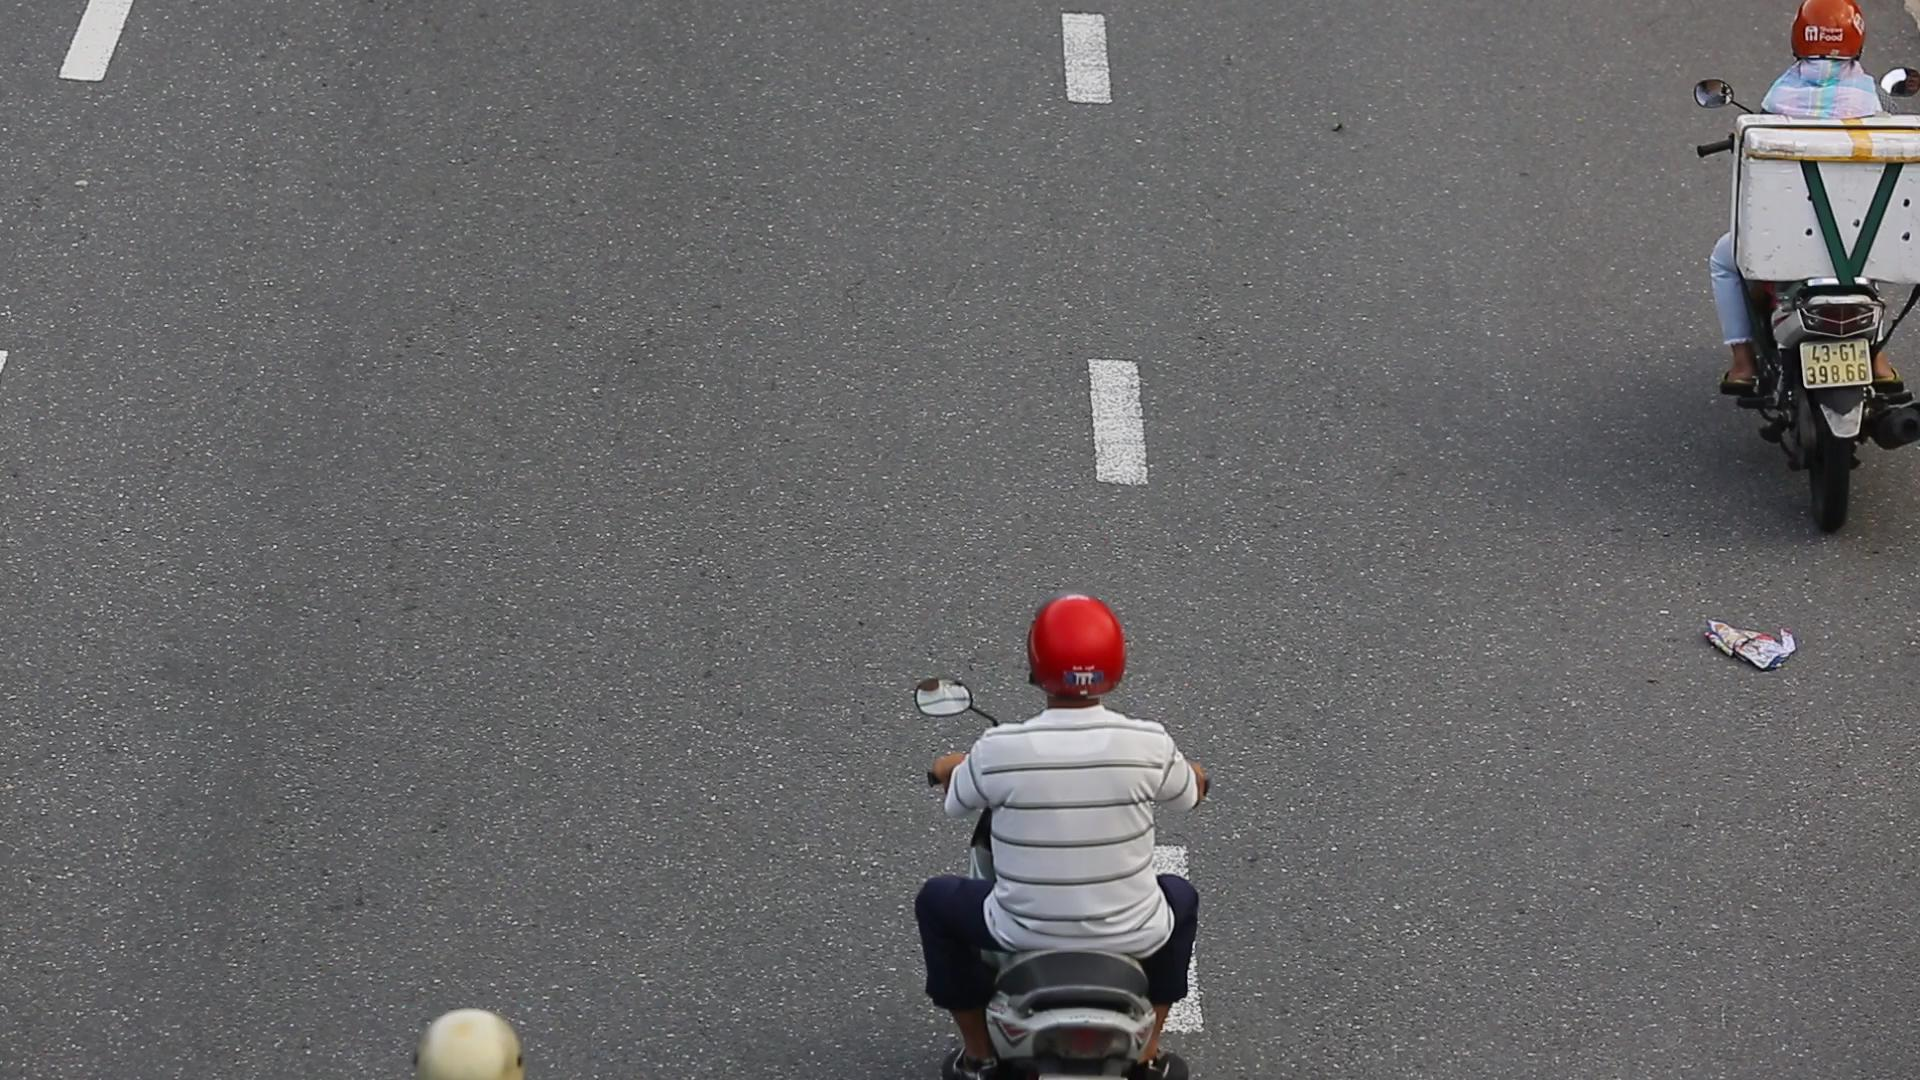motobike: (1671, 0, 1920, 547)
